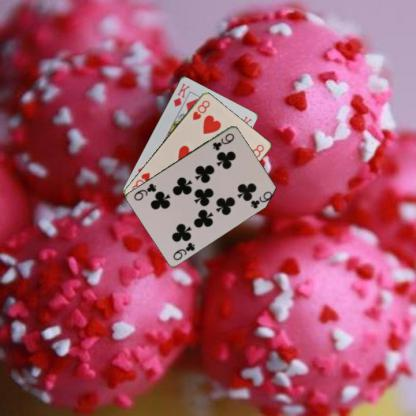8h: (189, 98, 211, 121)
9c: (170, 239, 196, 261), (210, 130, 236, 151)
Kd: (171, 80, 192, 108)
